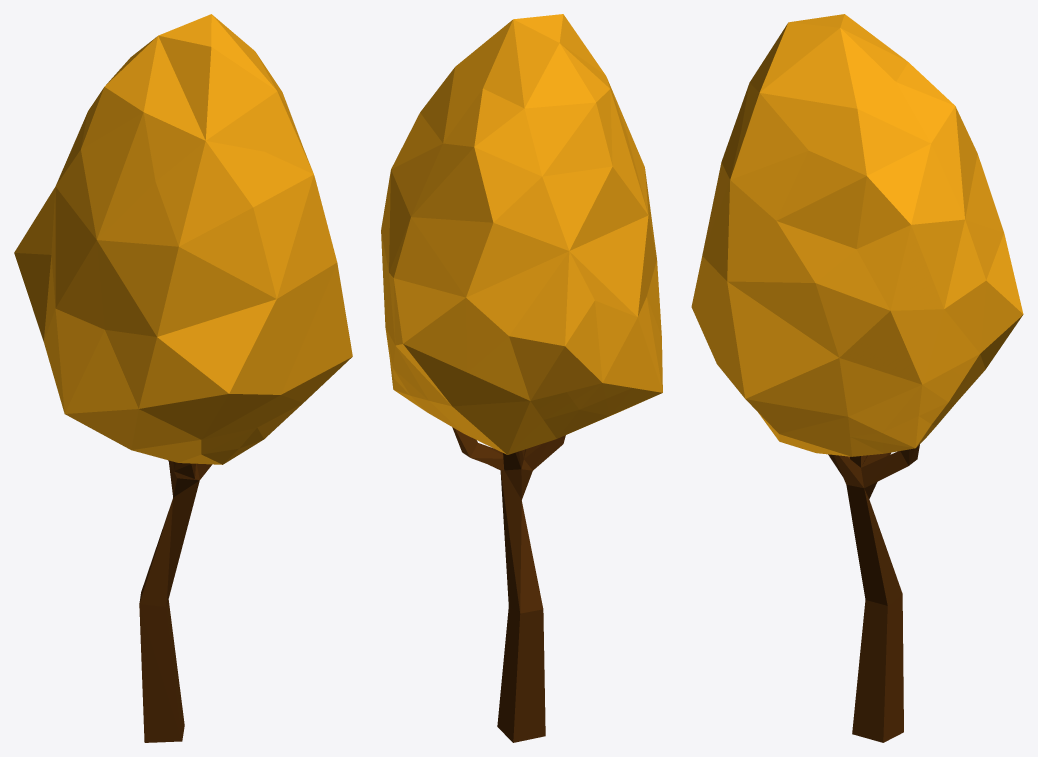
Rendered from Arvore03.fbx.
3 renders of one model, left to right at view 1: azimuth 30°, elevation 25°; view 2: azimuth 150°, elevation 25°; view 3: azimuth 270°, elevation 25°, orthographic. The views are drawn at different scales.
Visible parts, largest first — view 1: Cube.004; view 2: Cube.004; view 3: Cube.004.
Boxes of the visible parts, box(x1,y1,x2,y2) form: Cube.004: box(14, 14, 352, 742); Cube.004: box(381, 14, 662, 742); Cube.004: box(691, 14, 1023, 742).
Bounding box in the file's own units: 240 × 630 × 263.
